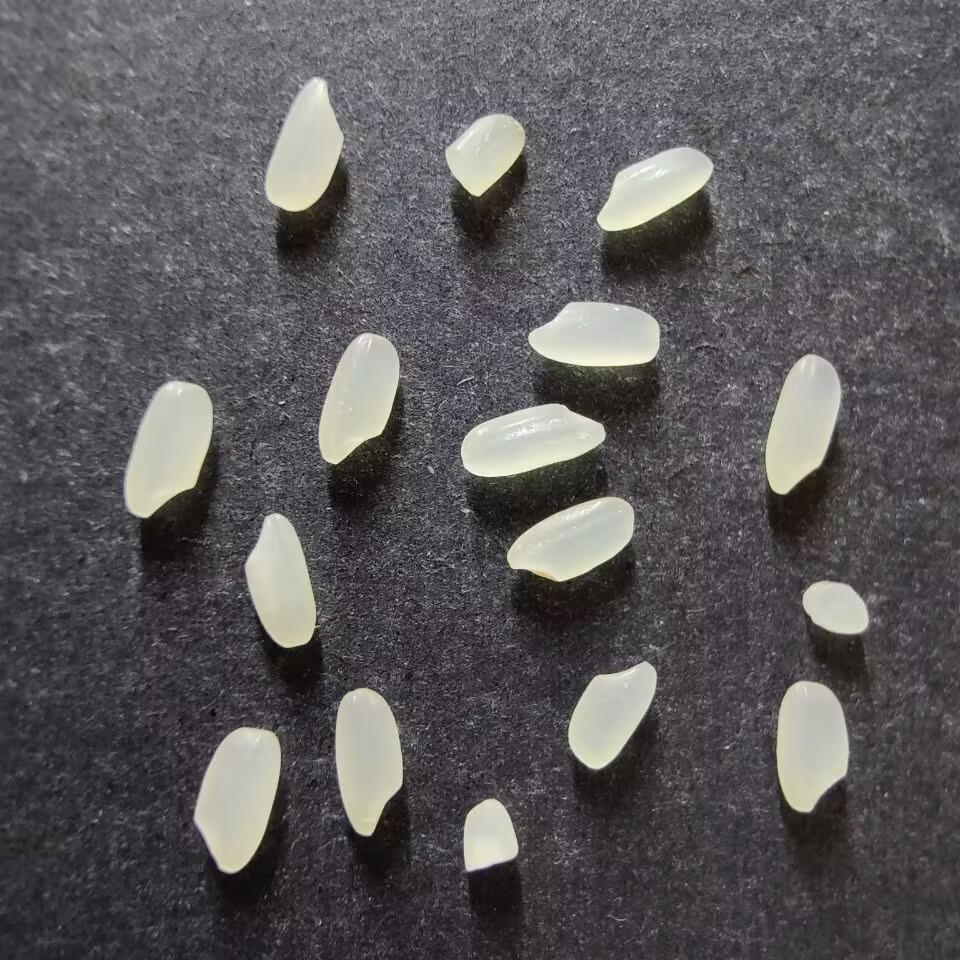broken: (444, 113, 526, 197), (462, 798, 519, 872), (801, 580, 869, 634)
rice: (193, 726, 280, 873), (124, 380, 212, 518), (506, 496, 634, 582), (317, 333, 400, 464), (460, 403, 606, 477), (264, 78, 343, 212), (765, 354, 840, 494), (334, 688, 404, 836), (596, 146, 714, 231), (566, 660, 657, 769), (774, 680, 849, 812), (244, 513, 316, 649), (527, 300, 660, 366)
